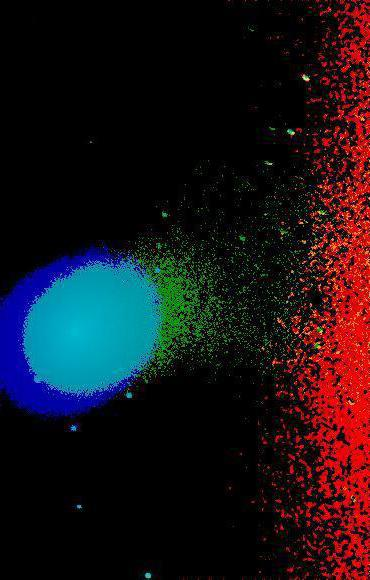star: (128, 368, 158, 398)
